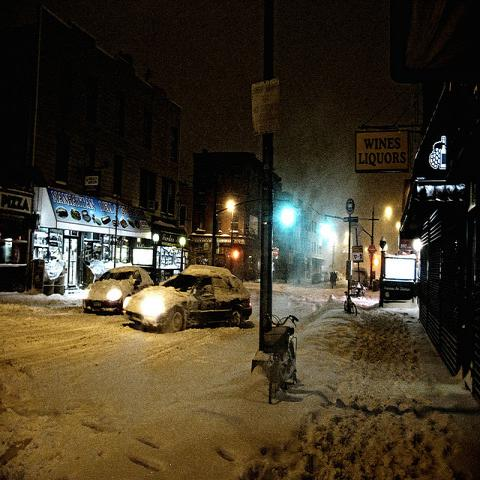car: (123, 266, 252, 330), (82, 265, 154, 315)
